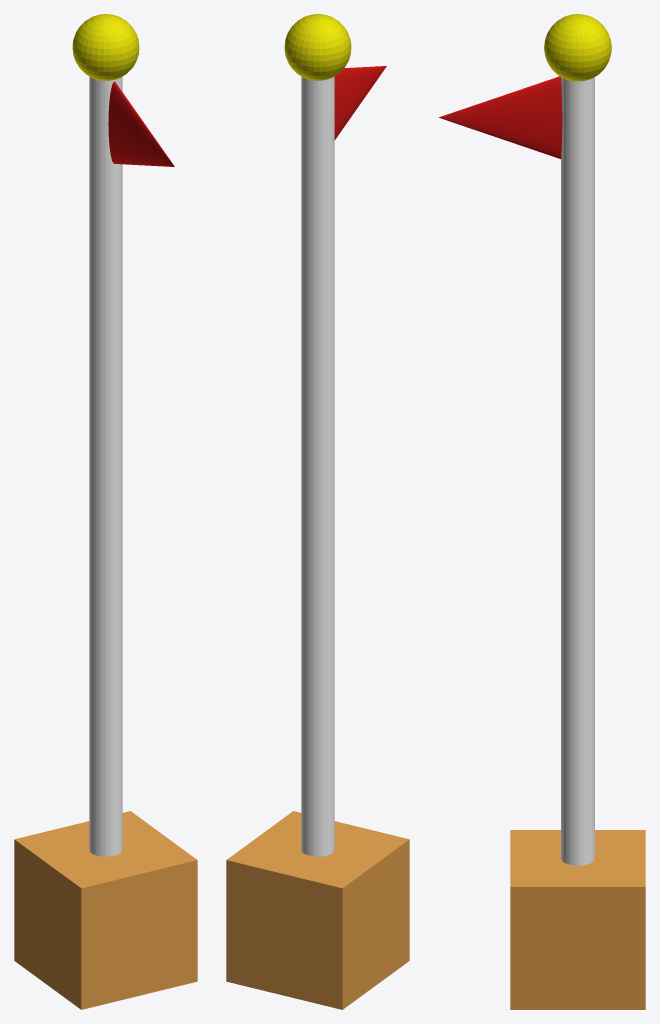
File: finish_flag.glb
3 views of the same model, side by side, from view 1: azimuth 30°, elevation 25°; view 2: azimuth 150°, elevation 25°; view 3: azimuth 270°, elevation 25° (orthographic).
Parts seen in each view (by area): view 1: Cube, Cylinder, Sphere, Cone; view 2: Cube, Cylinder, Sphere, Cone; view 3: Cylinder, Cube, Cone, Sphere.
Part boxes in pixels (x1,y1,x2,y2): Cube: (14,811,197,1009); Cylinder: (89,76,122,856); Sphere: (72,14,139,80); Cone: (108,81,174,166); Cube: (226,811,409,1009); Cylinder: (301,76,334,856); Sphere: (284,14,351,80); Cone: (334,66,386,140); Cylinder: (561,77,594,865); Cube: (510,830,645,1009); Cone: (438,76,562,158); Sphere: (544,14,611,81).
Size of the model in its own units: 2 by 15.7 by 3.06.
